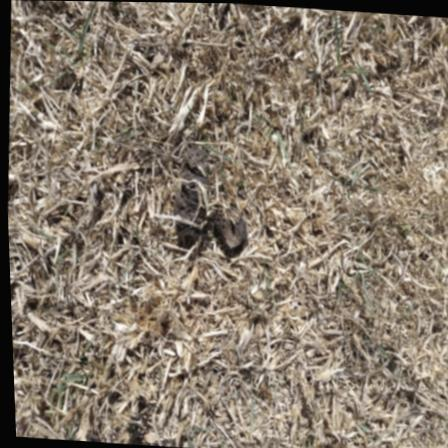dog-poop: (170, 144, 256, 259)
